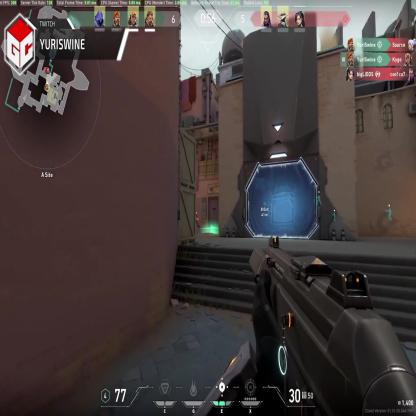enemy: (192, 208, 200, 233)
enemy_head: (194, 210, 198, 216)
